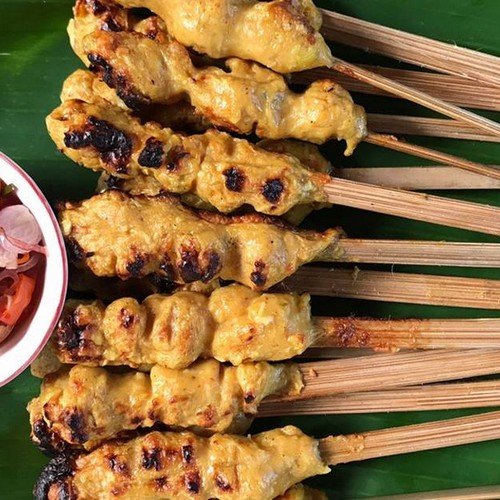sate lilit: (65, 6, 500, 479)
